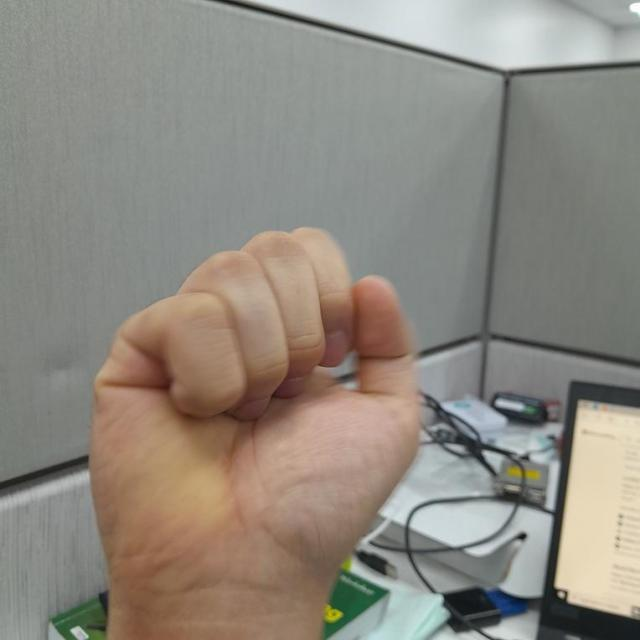fist: (90, 224, 424, 600)
